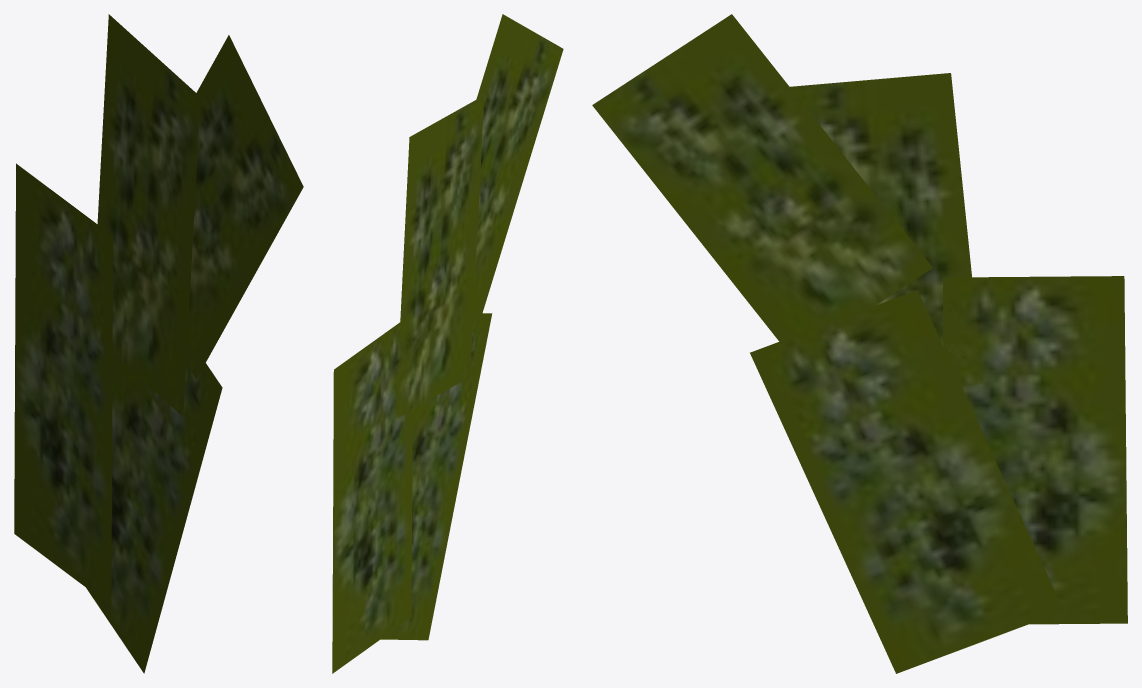
The model's file is prop_ivysmallclump03.glb.
The picture shows the model from 3 angles, left to right: view 1: azimuth 30°, elevation 25°; view 2: azimuth 150°, elevation 25°; view 3: azimuth 270°, elevation 25°; orthographic projection. The views are drawn at different scales.
Bounding box in the file's own units: 0.9066 × 100 × 73.94.
1 material, 1 textured.
